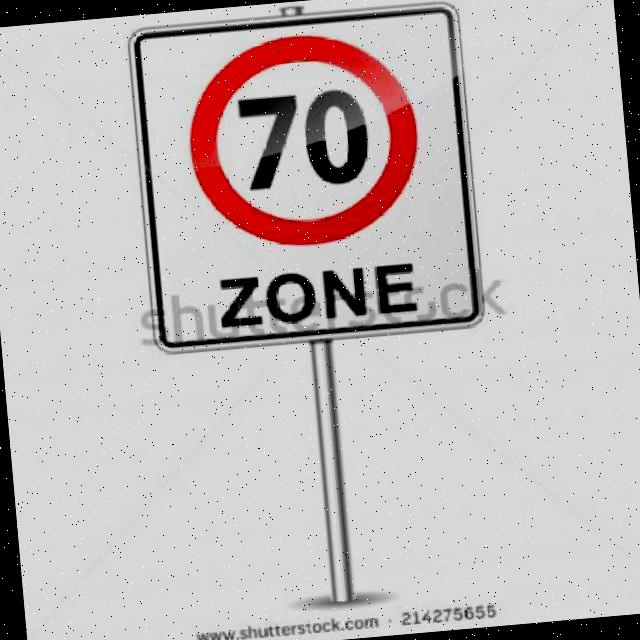Ograniczenie predkosci do 70: (191, 35, 417, 237)
